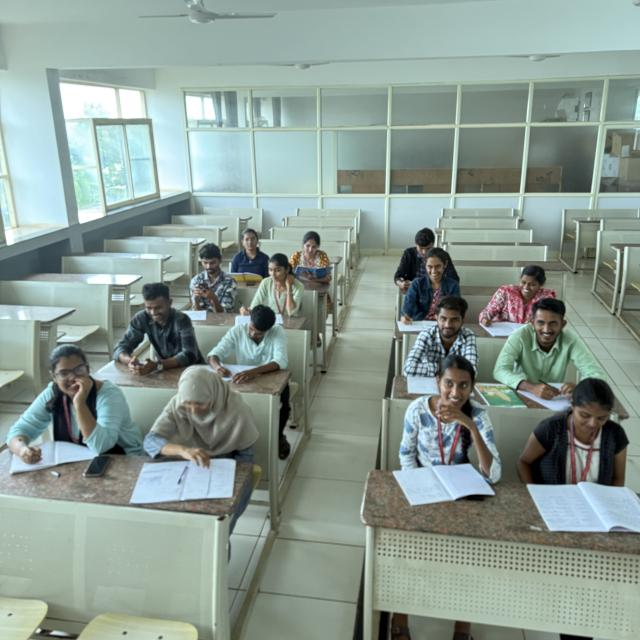Reading: (527, 391, 640, 522), (148, 372, 239, 471), (284, 231, 341, 285)
Using Phone: (116, 276, 187, 373), (186, 242, 235, 308)
Writing: (7, 342, 97, 467), (495, 303, 596, 401), (207, 305, 285, 388), (476, 269, 570, 335), (390, 256, 464, 328), (234, 254, 296, 318)
